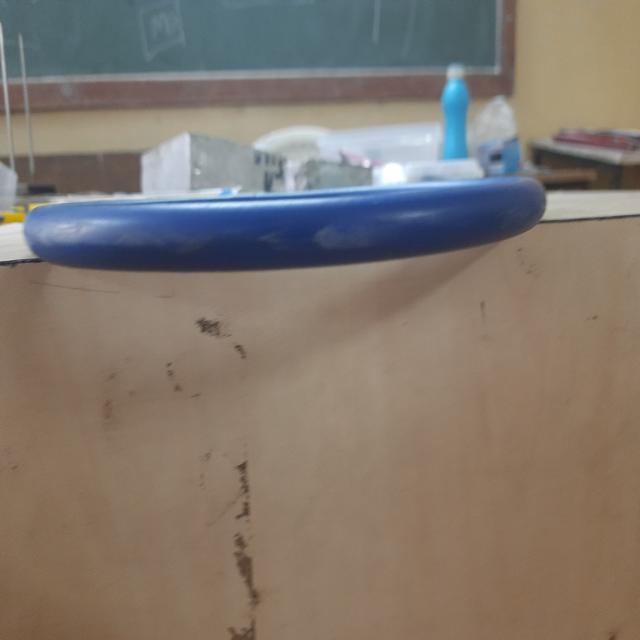daire: (28, 201, 512, 274)
